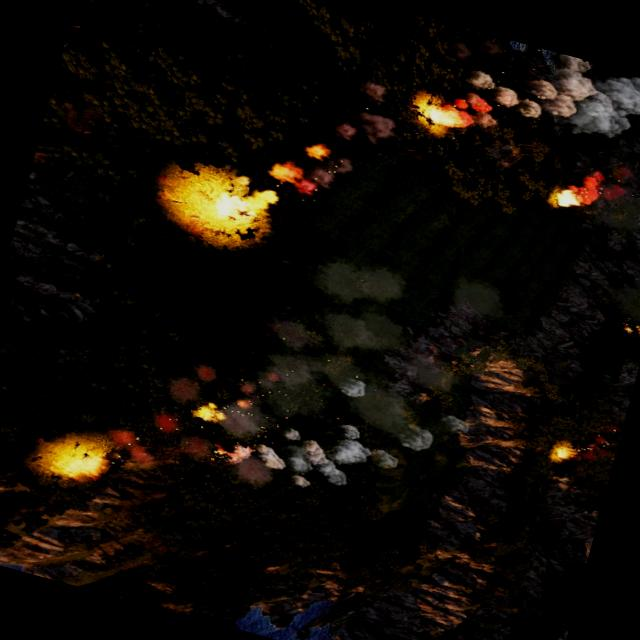fire: (164, 159, 284, 247), (50, 442, 110, 488), (417, 99, 472, 137), (548, 184, 586, 214), (617, 298, 640, 339), (189, 398, 224, 424), (550, 444, 576, 466)
smoke: (104, 209, 508, 542), (460, 33, 640, 187), (264, 62, 404, 211), (572, 170, 618, 210)
